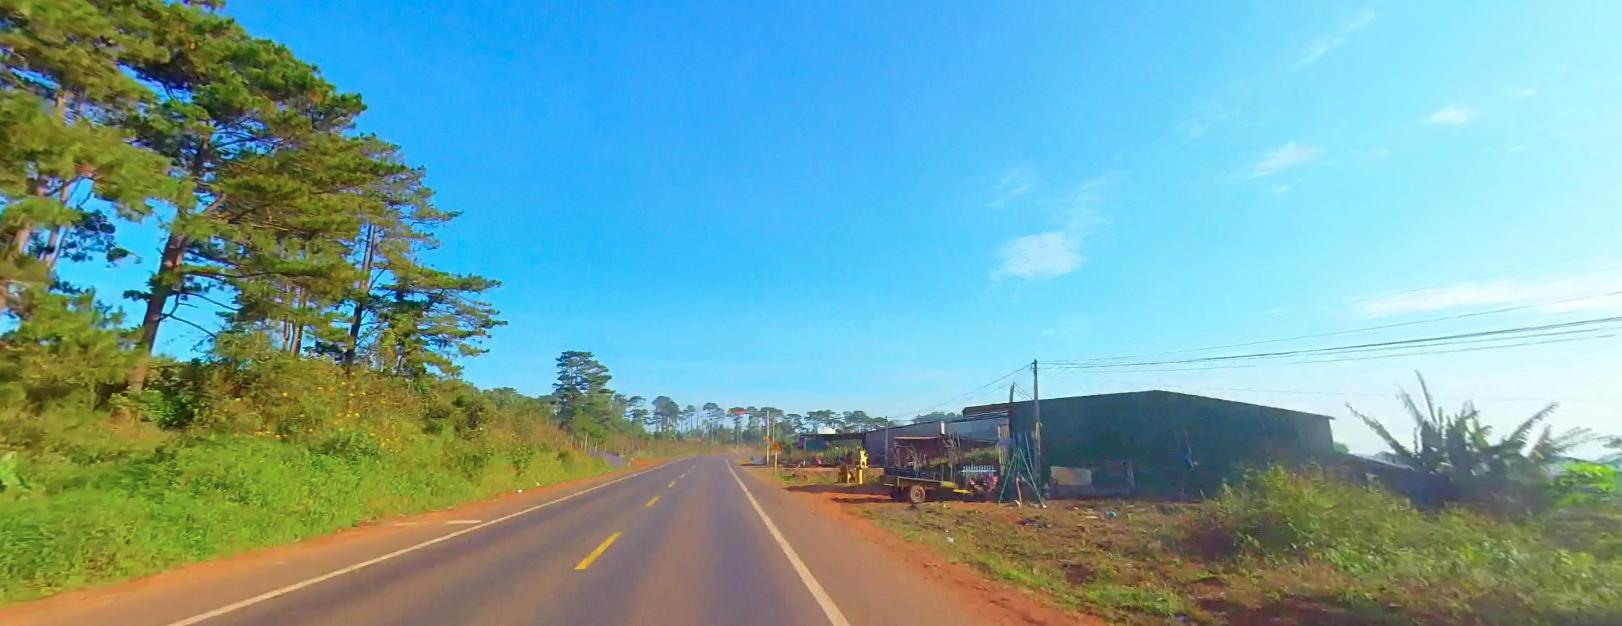Nguy hiem: (770, 440, 781, 449)
